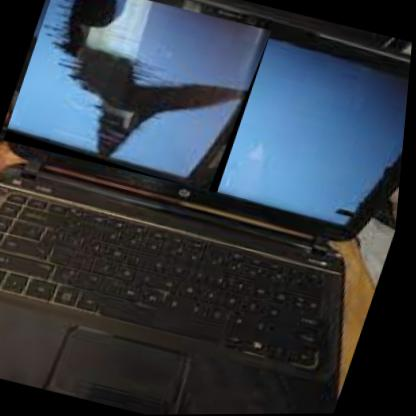crack: (0, 0, 275, 196)
